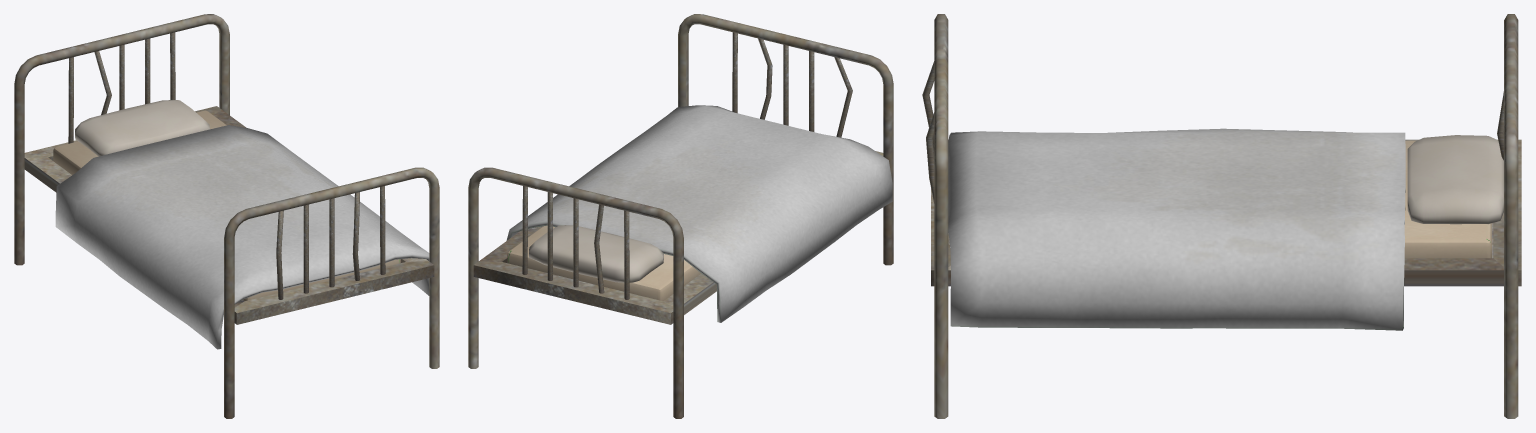
File: bed 02.FBX
The picture shows the model from 3 angles, left to right: view 1: azimuth 30°, elevation 25°; view 2: azimuth 150°, elevation 25°; view 3: azimuth 270°, elevation 25°; orthographic projection. The views are drawn at different scales.
Parts seen in each view (by area): view 1: Plane001, bed, Box001, matress; view 2: Plane001, bed, Box001, matress; view 3: Plane001, bed, Box001, matress.
Part boxes in pixels (box(x1,y1,x2,y2)): Plane001: box(55, 125, 429, 349); bed: box(14, 14, 439, 418); Box001: box(75, 100, 209, 156); matress: box(53, 110, 400, 301); Plane001: box(506, 105, 892, 322); bed: box(468, 14, 893, 418); Box001: box(529, 225, 663, 282); matress: box(507, 225, 700, 301); Plane001: box(948, 128, 1405, 330); bed: box(922, 14, 1521, 418); Box001: box(1407, 135, 1503, 224); matress: box(1404, 140, 1491, 258).
Size of the model in its own units: 1.24 by 1.08 by 2.13.
